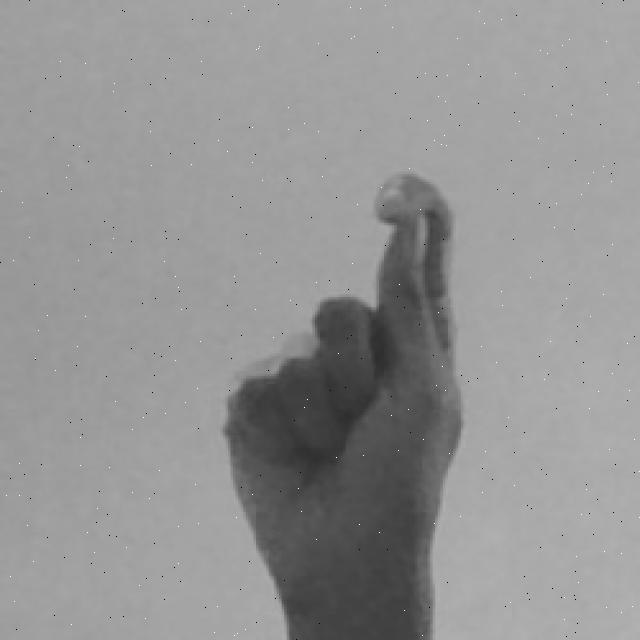T: (210, 166, 471, 640)
